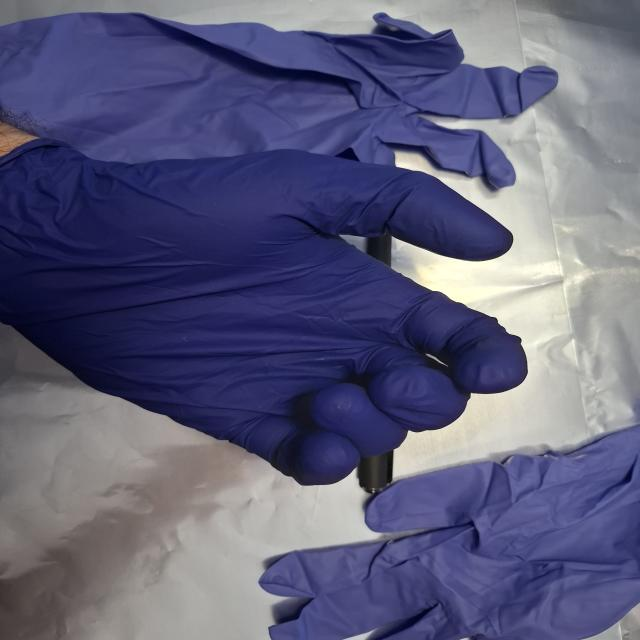glove_on: (3, 135, 533, 488)
